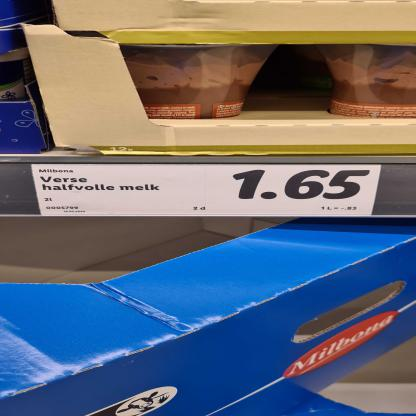prtg: (33, 165, 384, 218)
